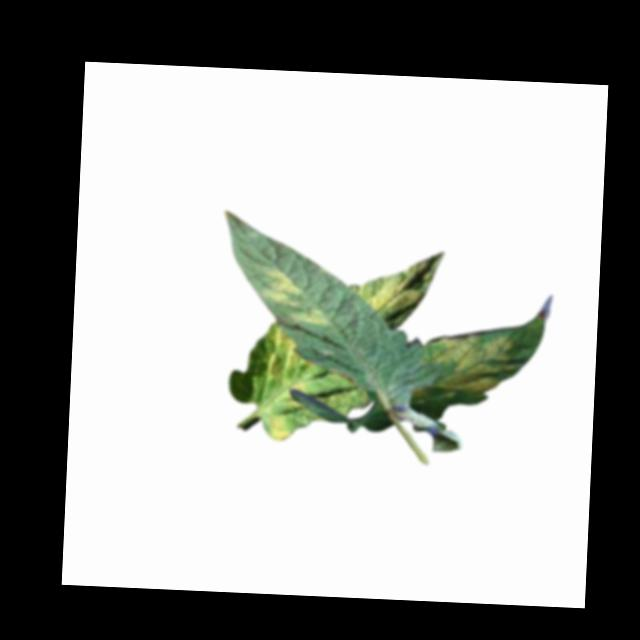Leaf_Mold: (409, 331, 511, 405), (359, 248, 445, 325), (260, 268, 332, 329), (266, 327, 307, 380), (262, 413, 292, 442), (285, 383, 309, 410)
